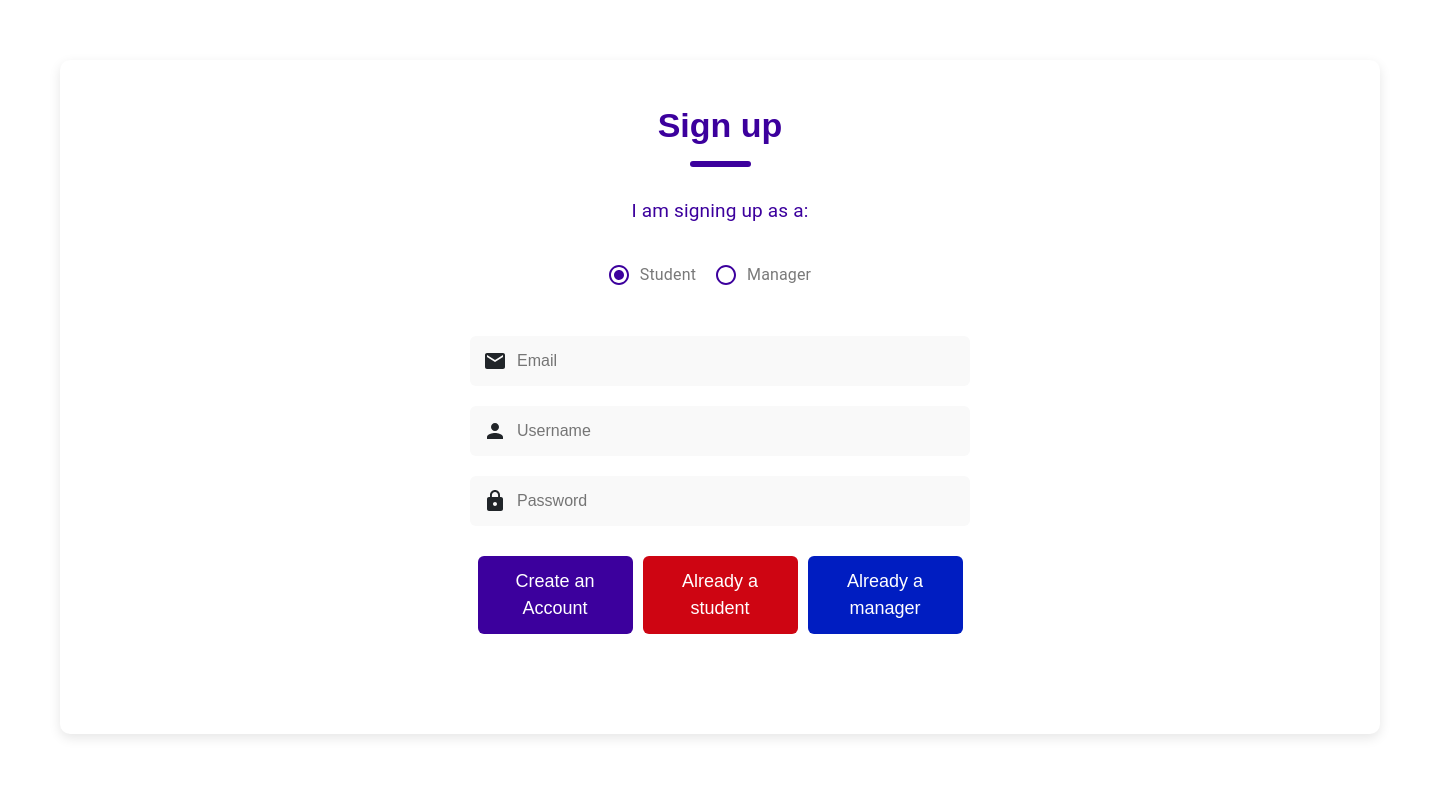
Scenario: Signup Component › shows an error when username is too short
Type "user" into the field with placeholder "Username" at (732, 431), box x1=507 y1=407 x2=957 y2=455
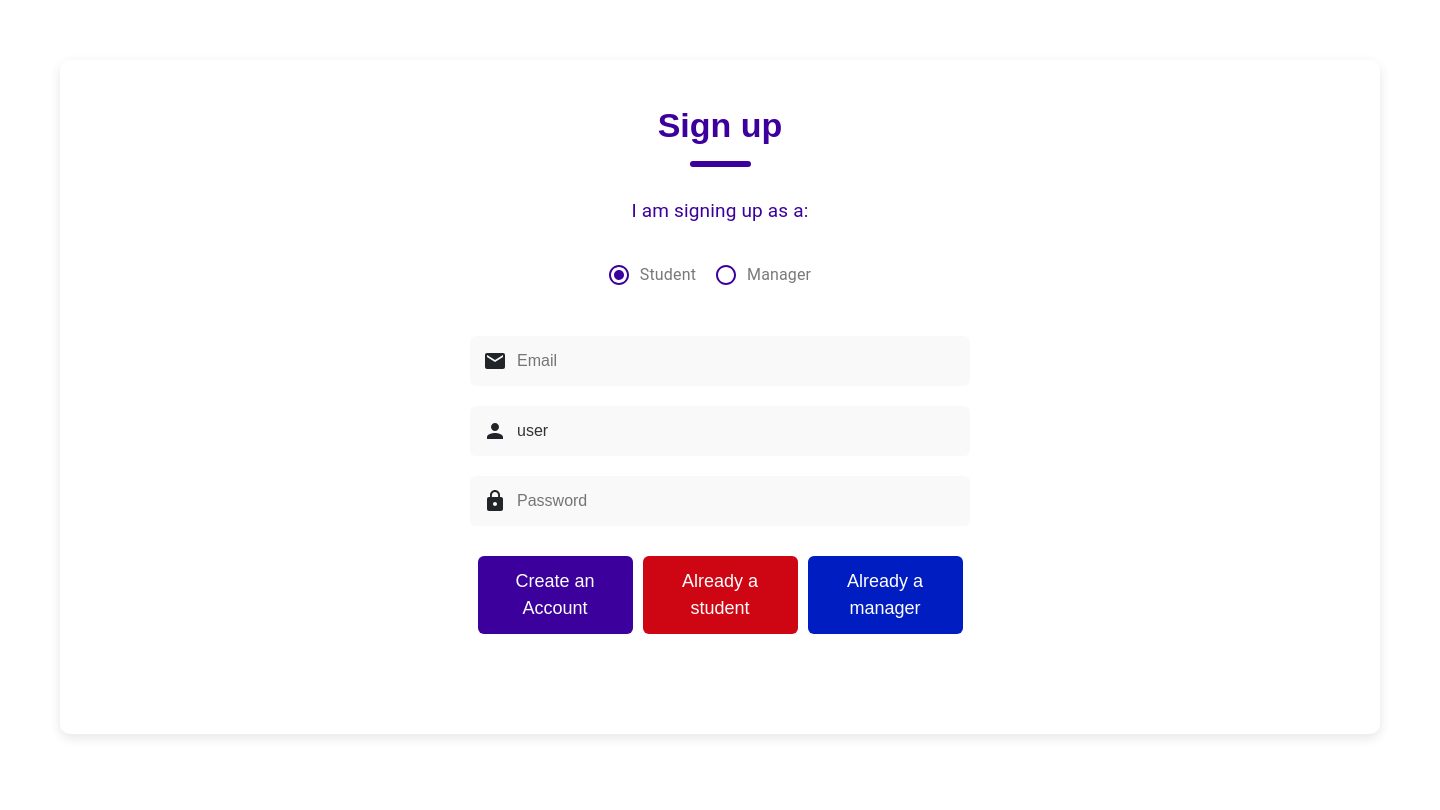
Click the text "Create an Account" at (555, 595), box x1=478 y1=556 x2=632 y2=634
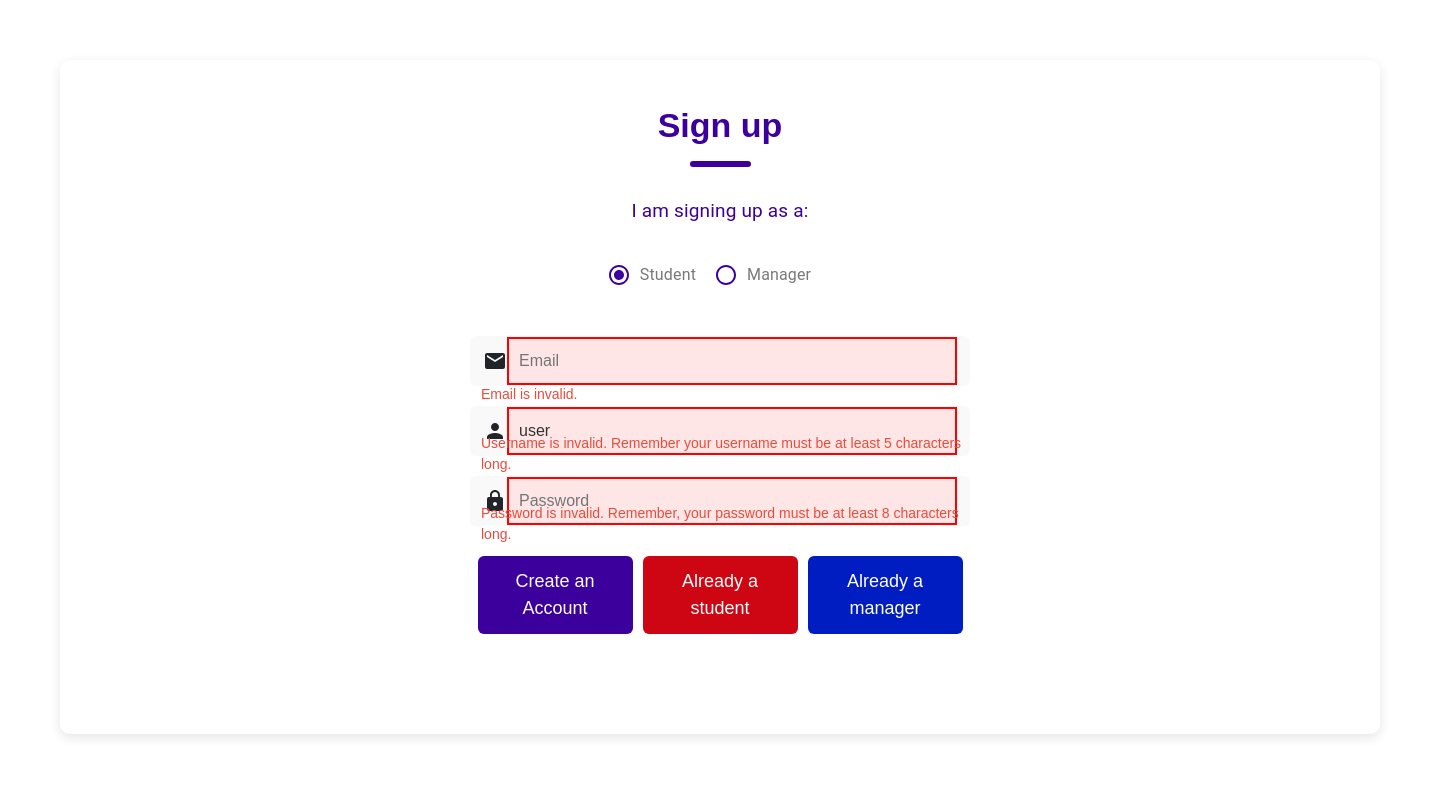
Expected: the text "Username is invalid. Remember your username must be at least 5 characters long." is shown, x1=481 y1=433 x2=969 y2=475
